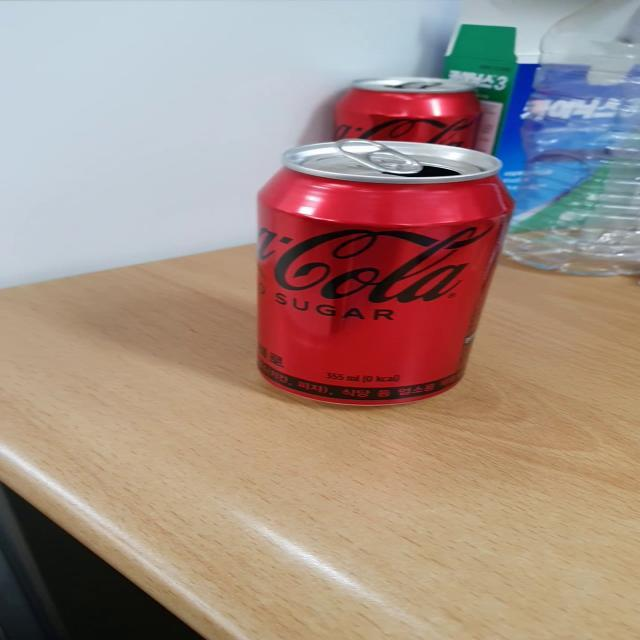coca-cola: (228, 132, 520, 420)
